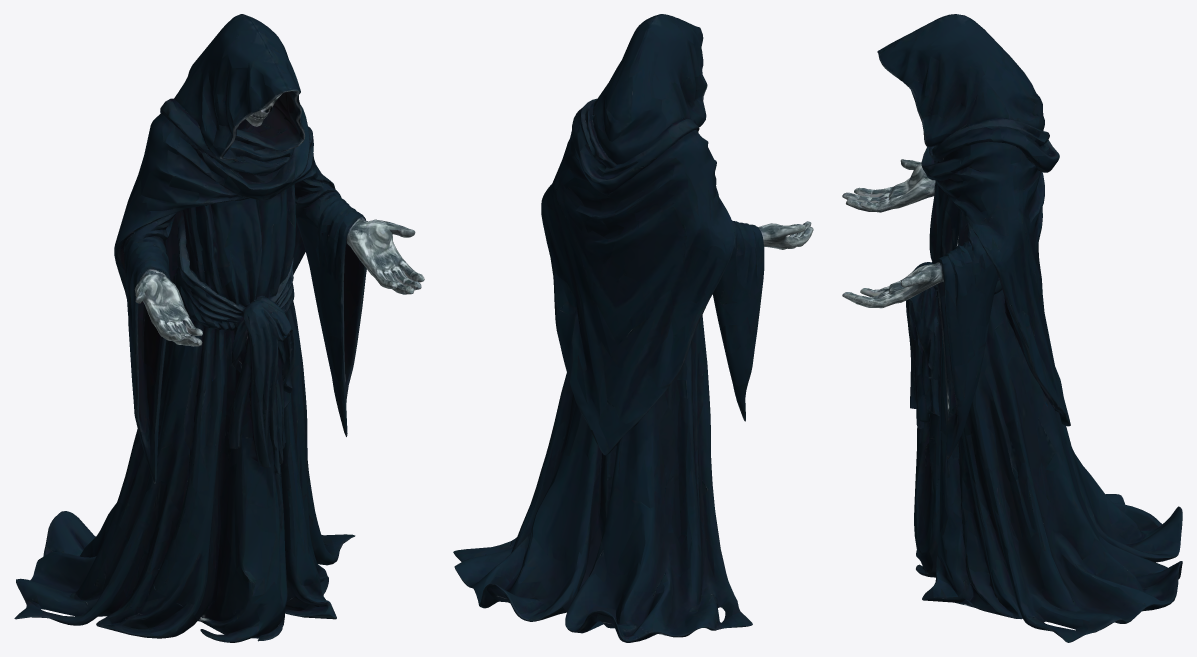
File: river-shade.glb
The picture shows the model from 3 angles, left to right: view 1: azimuth 30°, elevation 25°; view 2: azimuth 150°, elevation 25°; view 3: azimuth 270°, elevation 25°; orthographic projection. The views are drawn at different scales.
Parts seen in each view (by area): view 1: output_unwrapped; view 2: output_unwrapped; view 3: output_unwrapped.
Boxes of the visible parts, <box> form: output_unwrapped: <box>14,14,424,642</box>; output_unwrapped: <box>453,14,813,642</box>; output_unwrapped: <box>842,14,1182,642</box>.
Bounding box in the file's own units: 1.11 × 1.9 × 1.06.
1 material, 1 textured.
